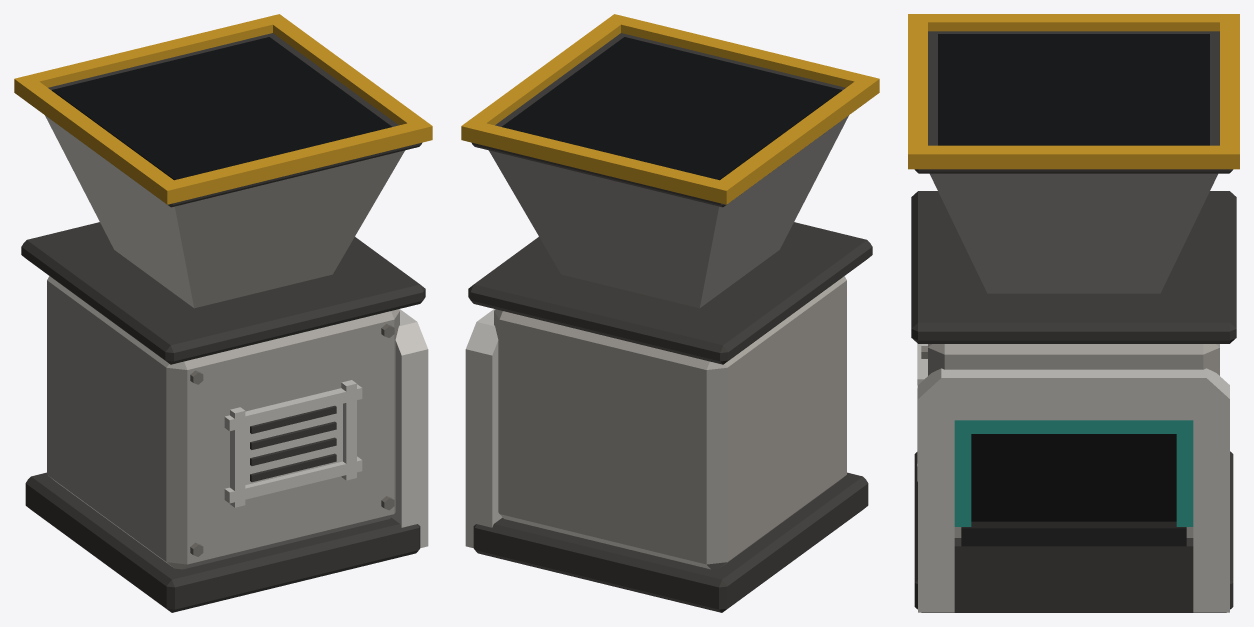
File: funnel.fbx
3 renders of one model, left to right at view 1: azimuth 30°, elevation 25°; view 2: azimuth 150°, elevation 25°; view 3: azimuth 270°, elevation 25°, orthographic. The views are drawn at different scales.
Visible parts, largest first — view 1: funnel; view 2: funnel; view 3: funnel.
Boxes of the visible parts, x1=… form: funnel: x1=14, y1=14, x2=432, y2=612; funnel: x1=461, y1=14, x2=879, y2=612; funnel: x1=908, y1=14, x2=1239, y2=612.
Bounding box in the file's own units: 3 × 4.64 × 3.
